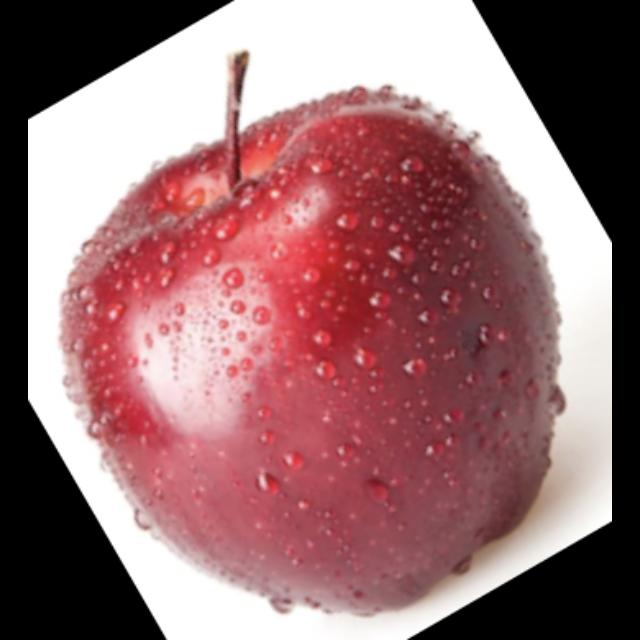Apel Segar: (66, 91, 569, 619)
